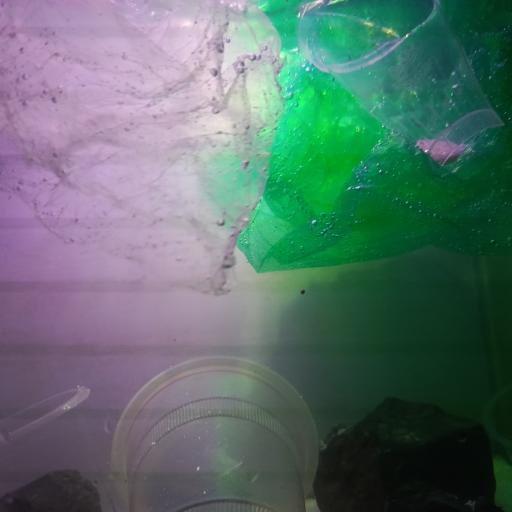plastic_bag: (203, 0, 512, 275), (0, 0, 287, 293)
plastic_cup: (296, 0, 506, 180), (109, 353, 322, 512), (0, 383, 90, 512), (480, 380, 512, 464)
